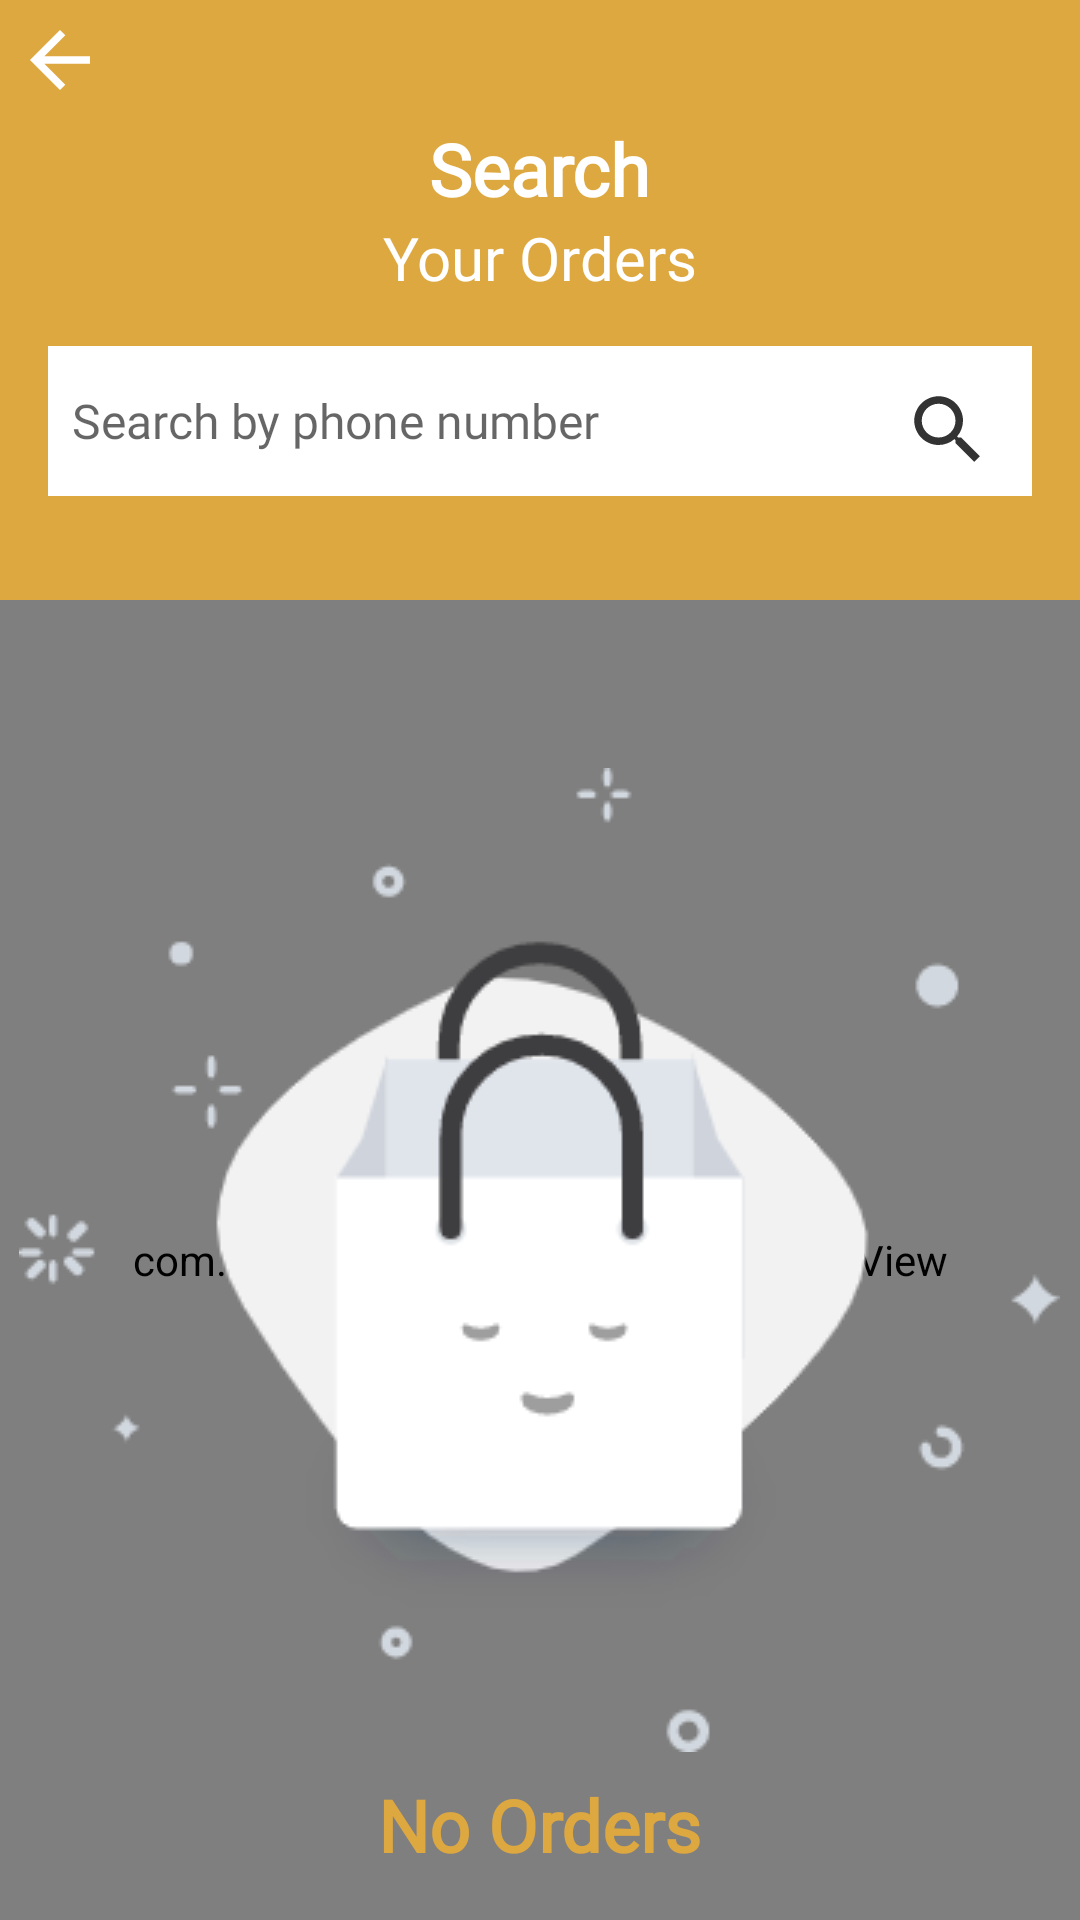

Screen size 1080*1920. Icon name, then its box in pixels as (x1, y1, x2, y2):
back: (30, 30, 90, 90)
